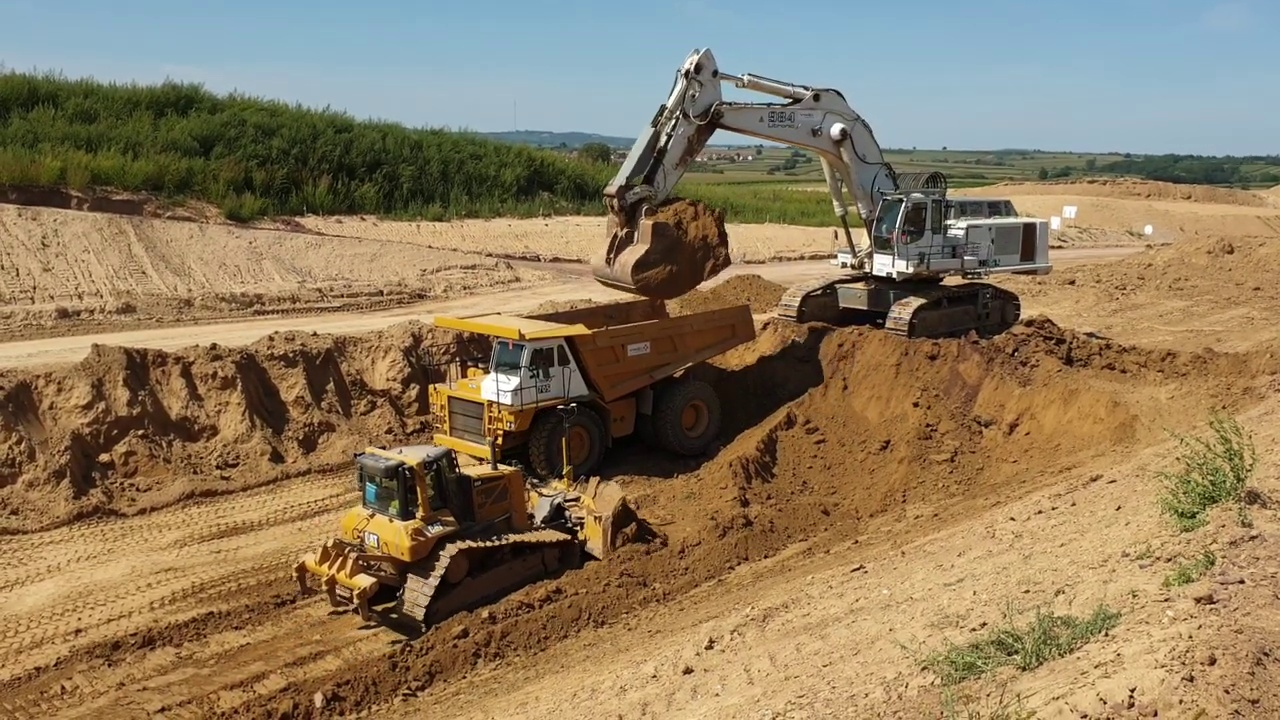bulldozer: (290, 398, 657, 633)
excavator: (585, 40, 1054, 345)
truck: (414, 290, 763, 485)
